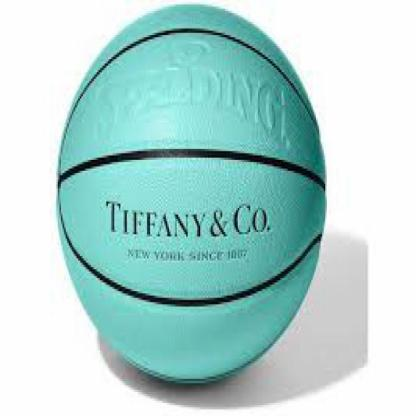basketball: (56, 4, 327, 383)
